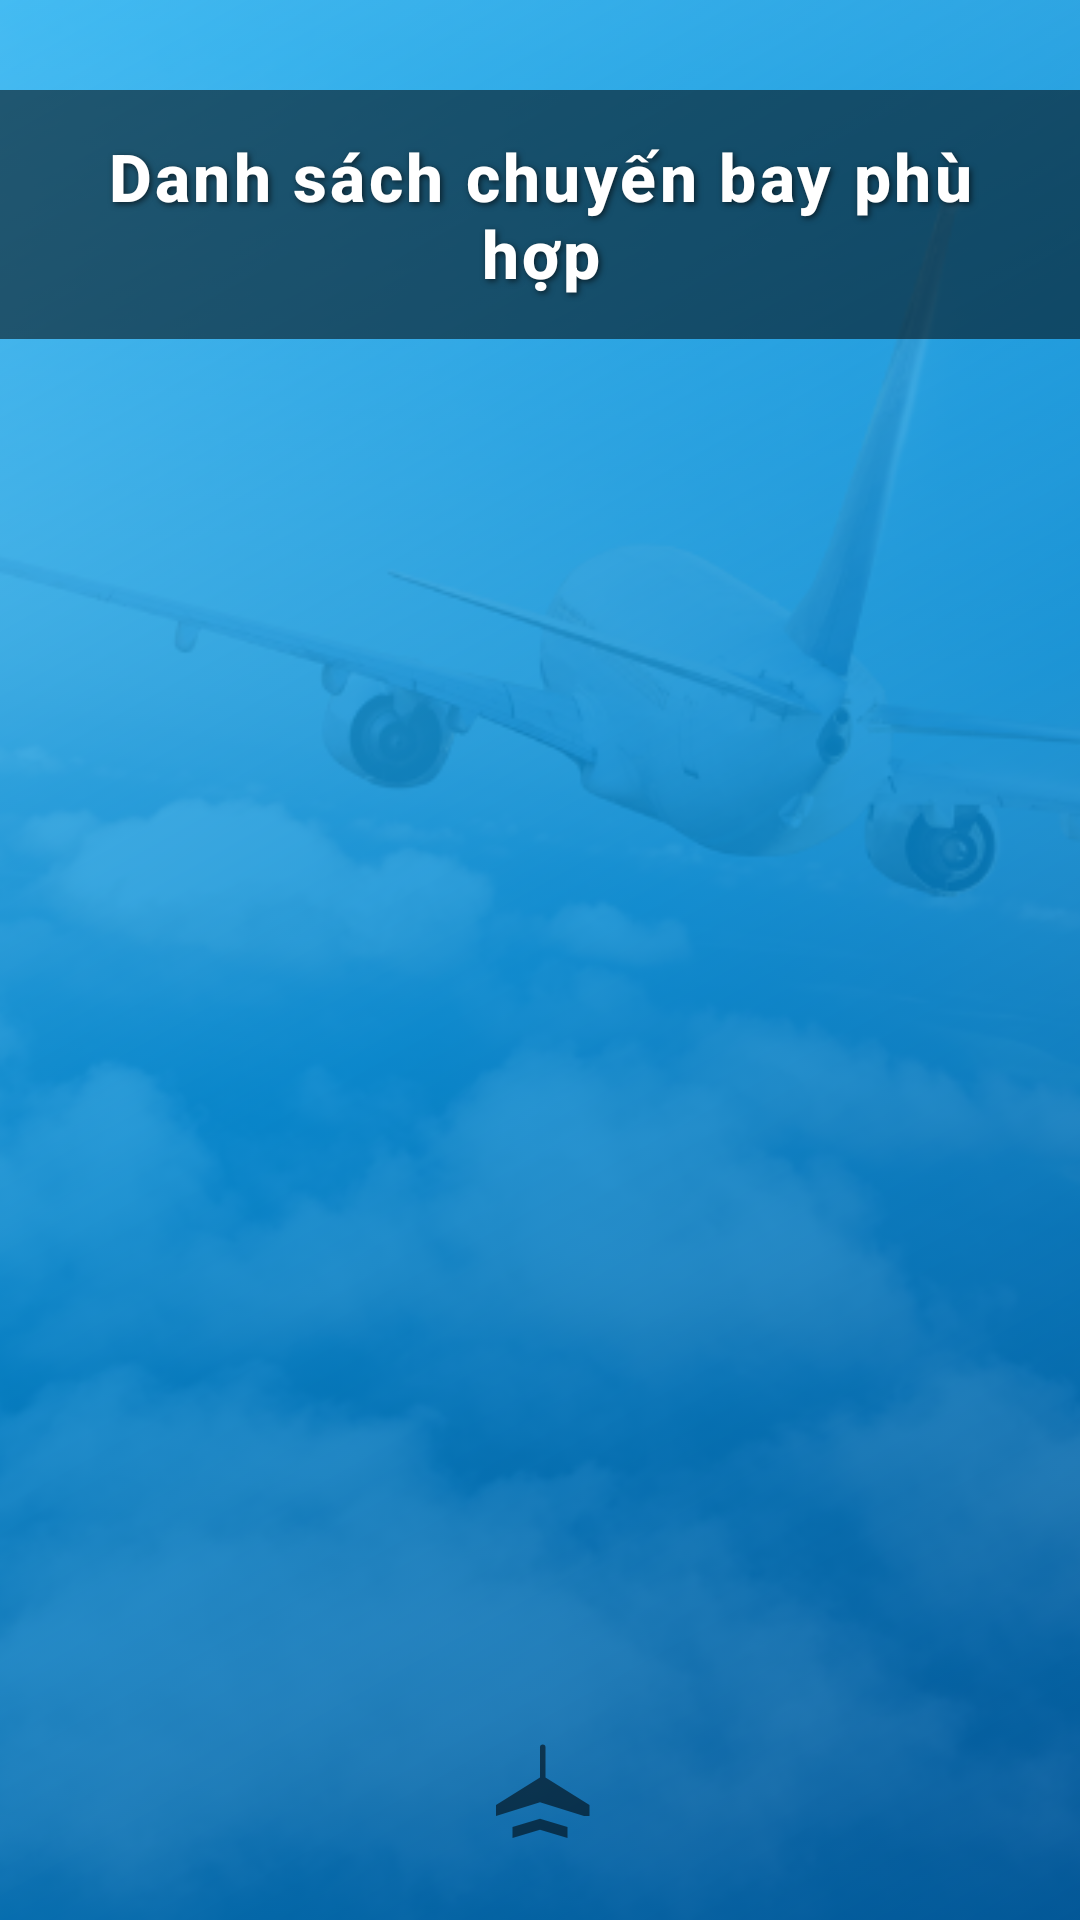

Named icons in this screenshot (1080x1920) and their bounding boxes, (x1, y1, x2, y2):
Icon trang trí máy bay: (496, 1744, 590, 1838)
